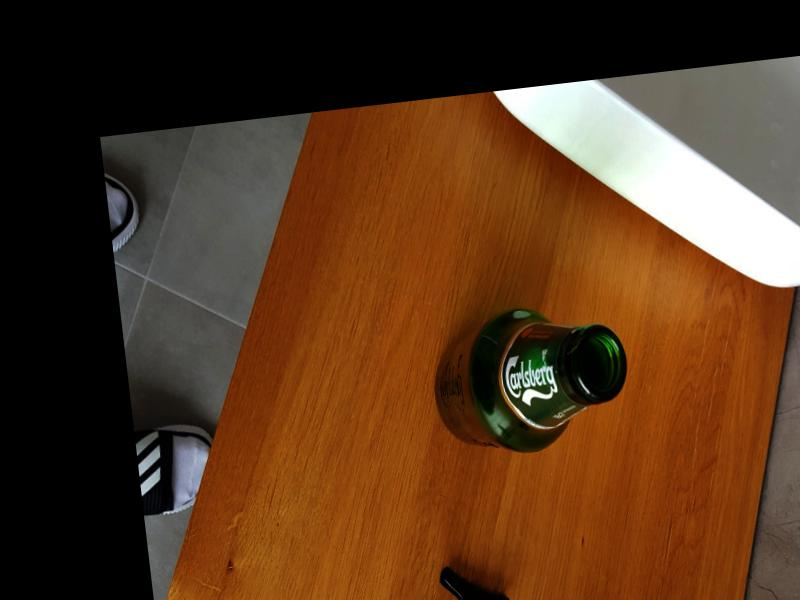Beer: (426, 295, 633, 462)
